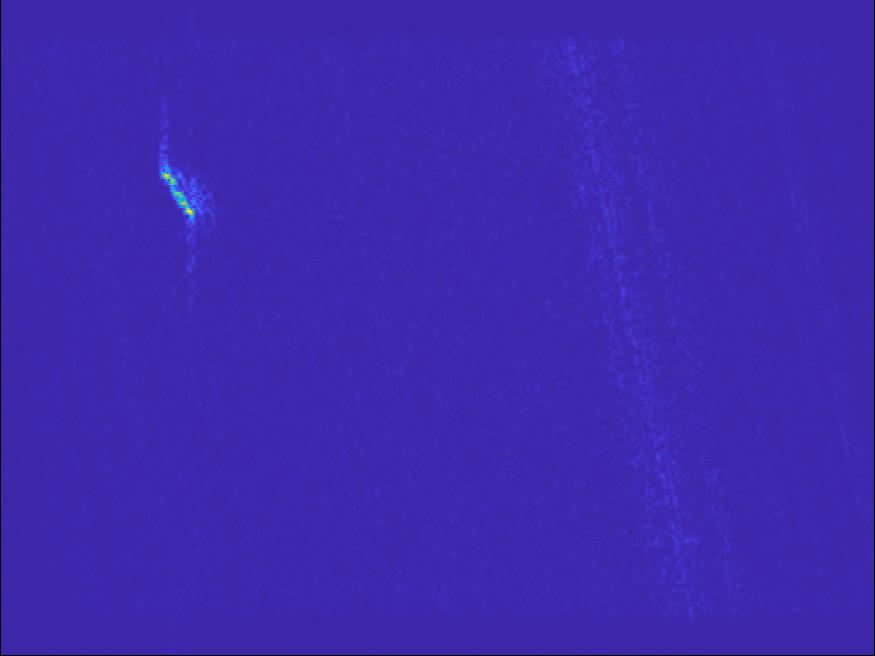Interference: (96, 281, 318, 376), (627, 576, 714, 623), (331, 305, 408, 351)
